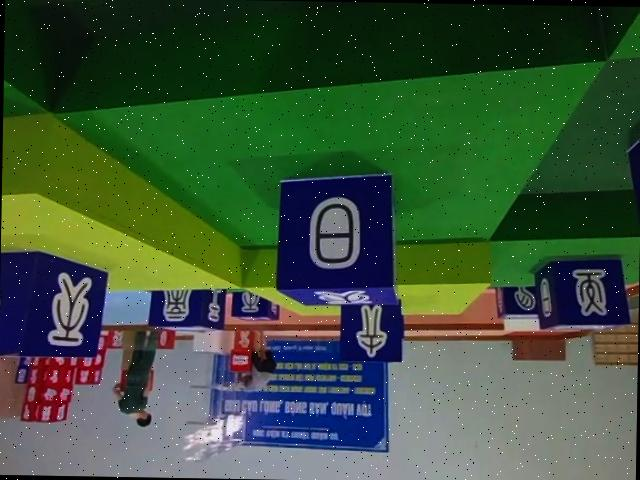R2 Fake Blue: (277, 167, 404, 304), (0, 245, 108, 356), (538, 254, 635, 331), (340, 297, 406, 363), (151, 285, 228, 329), (495, 283, 542, 318), (227, 289, 276, 319)
